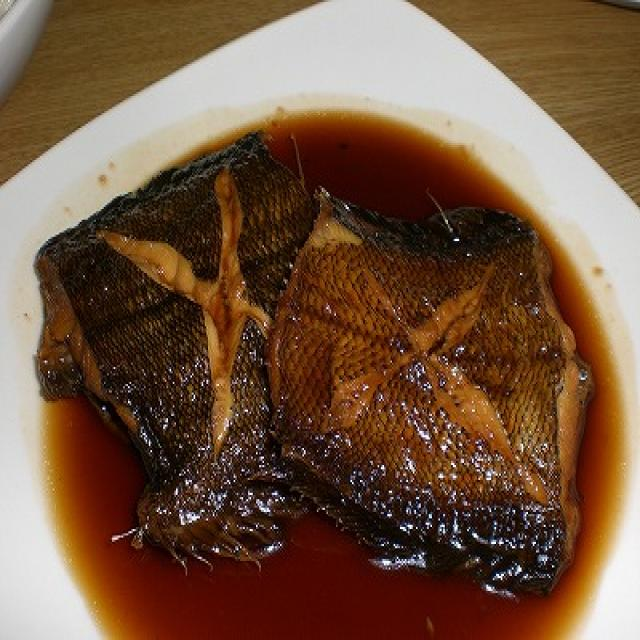熟制海鲜: (0, 79, 635, 640)
